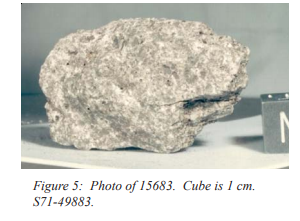Basalt: (39, 21, 249, 158)
